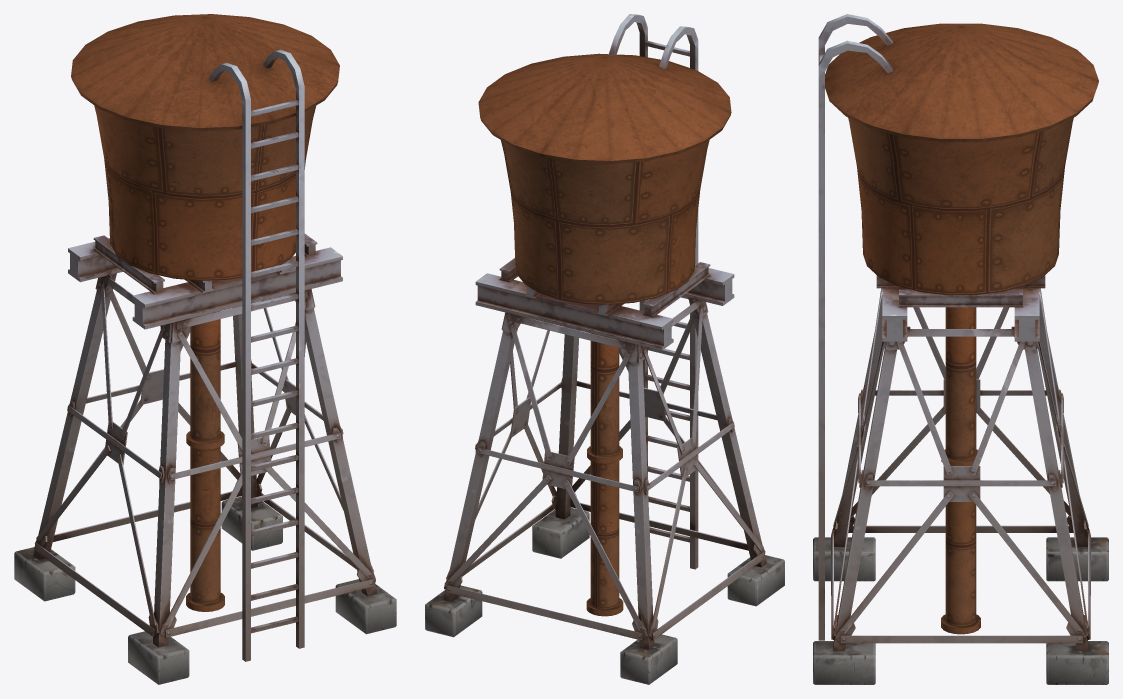
Rendered from WaterTower03.FBX.
The picture shows the model from 3 angles, left to right: view 1: azimuth 30°, elevation 25°; view 2: azimuth 150°, elevation 25°; view 3: azimuth 270°, elevation 25°; orthographic projection. The views are drawn at different scales.
Visible parts, largest first — view 1: WaterTower03; view 2: WaterTower03; view 3: WaterTower03.
Boxes of the visible parts, x1,y1,x2,y2 form: WaterTower03: (14,14,396,684); WaterTower03: (425,14,784,684); WaterTower03: (813,14,1108,684).
Size of what is drawn, in the model's own units: 3.49 by 8.18 by 3.65.
